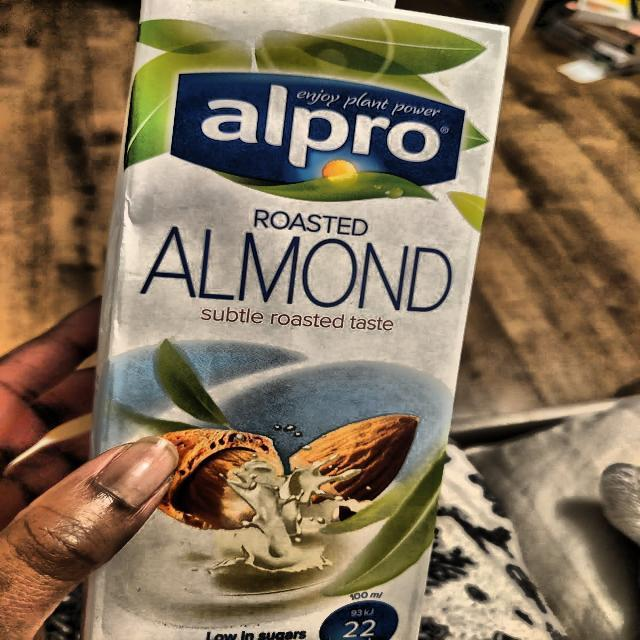cardboard: (81, 0, 512, 639)
